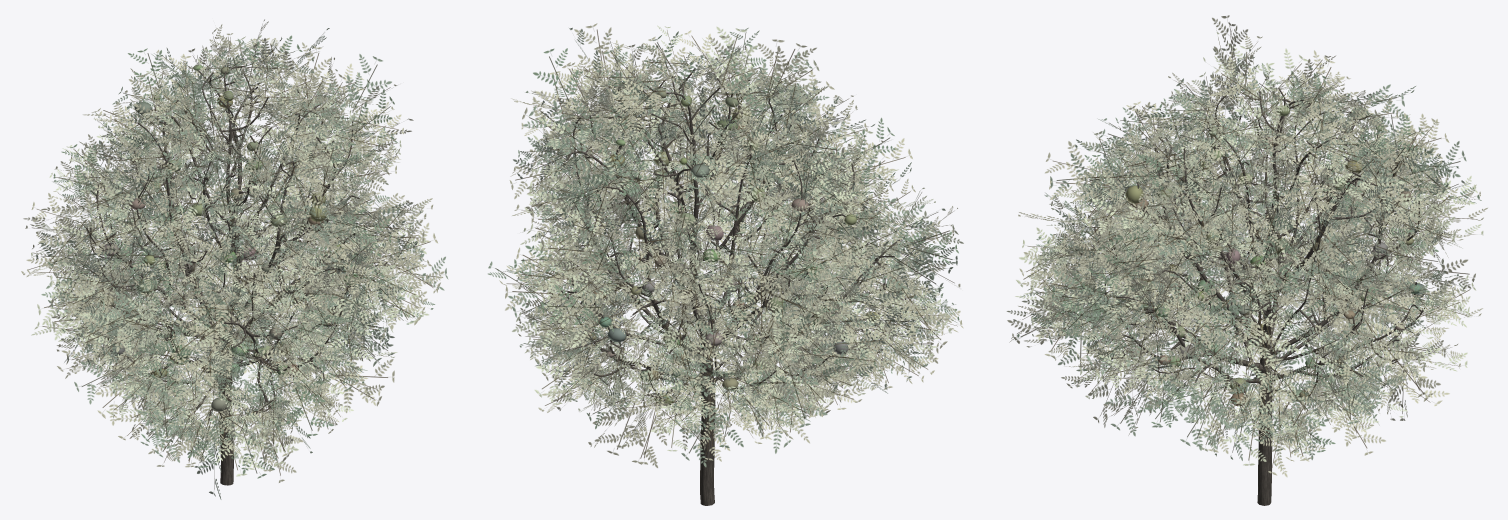
The model's file is tree_61_broadleaf.glb.
3 views of the same model, side by side, from view 1: azimuth 30°, elevation 25°; view 2: azimuth 150°, elevation 25°; view 3: azimuth 270°, elevation 25° (orthographic). The views are drawn at different scales.
Visible parts, largest first — view 1: tree_61_broadleaf.leaves, tree_61_broadleaf.trunk_branches, tree_61_broadleaf.foliage_volume; view 2: tree_61_broadleaf.leaves, tree_61_broadleaf.trunk_branches, tree_61_broadleaf.foliage_volume; view 3: tree_61_broadleaf.leaves, tree_61_broadleaf.trunk_branches, tree_61_broadleaf.foliage_volume.
Boxes of the visible parts, x1=… form: tree_61_broadleaf.leaves: x1=21, y1=19, x2=448, y2=499; tree_61_broadleaf.trunk_branches: x1=86, y1=66, x2=387, y2=485; tree_61_broadleaf.foliage_volume: x1=100, y1=65, x2=358, y2=411; tree_61_broadleaf.leaves: x1=487, y1=23, x2=963, y2=467; tree_61_broadleaf.trunk_branches: x1=561, y1=69, x2=906, y2=505; tree_61_broadleaf.foliage_volume: x1=585, y1=90, x2=903, y2=405; tree_61_broadleaf.leaves: x1=1006, y1=15, x2=1487, y2=476; tree_61_broadleaf.trunk_branches: x1=1067, y1=87, x2=1424, y2=505; tree_61_broadleaf.foliage_volume: x1=1075, y1=97, x2=1426, y2=406.
Size of the model in its own units: 9.78 by 10.75 by 10.4.
3 materials, 2 textured.
